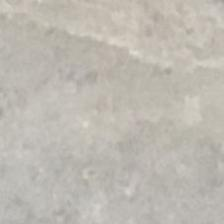Non_Crack: (31, 31, 210, 197)
